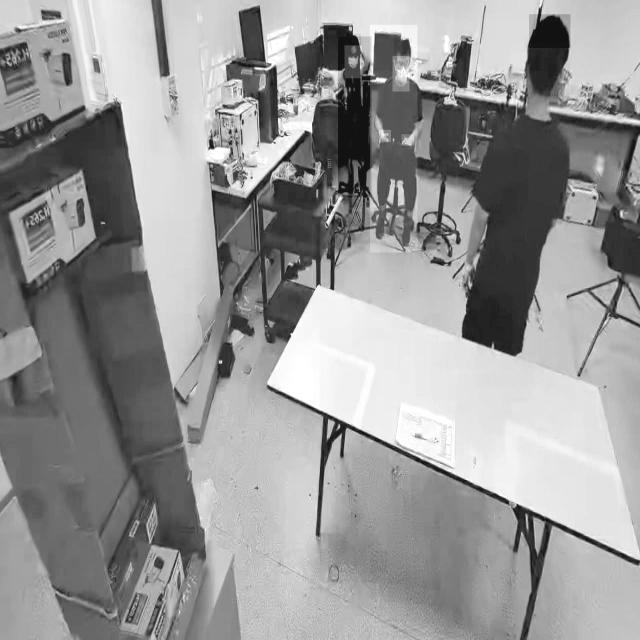face_mask: (392, 56, 410, 92), (344, 45, 362, 79)
hand_noglove: (401, 134, 414, 147), (379, 130, 391, 142)
head_nohelmet: (528, 14, 570, 49), (394, 37, 412, 55), (347, 34, 361, 46)
person: (448, 20, 600, 375), (370, 25, 418, 253), (338, 36, 372, 198)
shoes: (399, 207, 417, 248), (374, 202, 390, 246)
